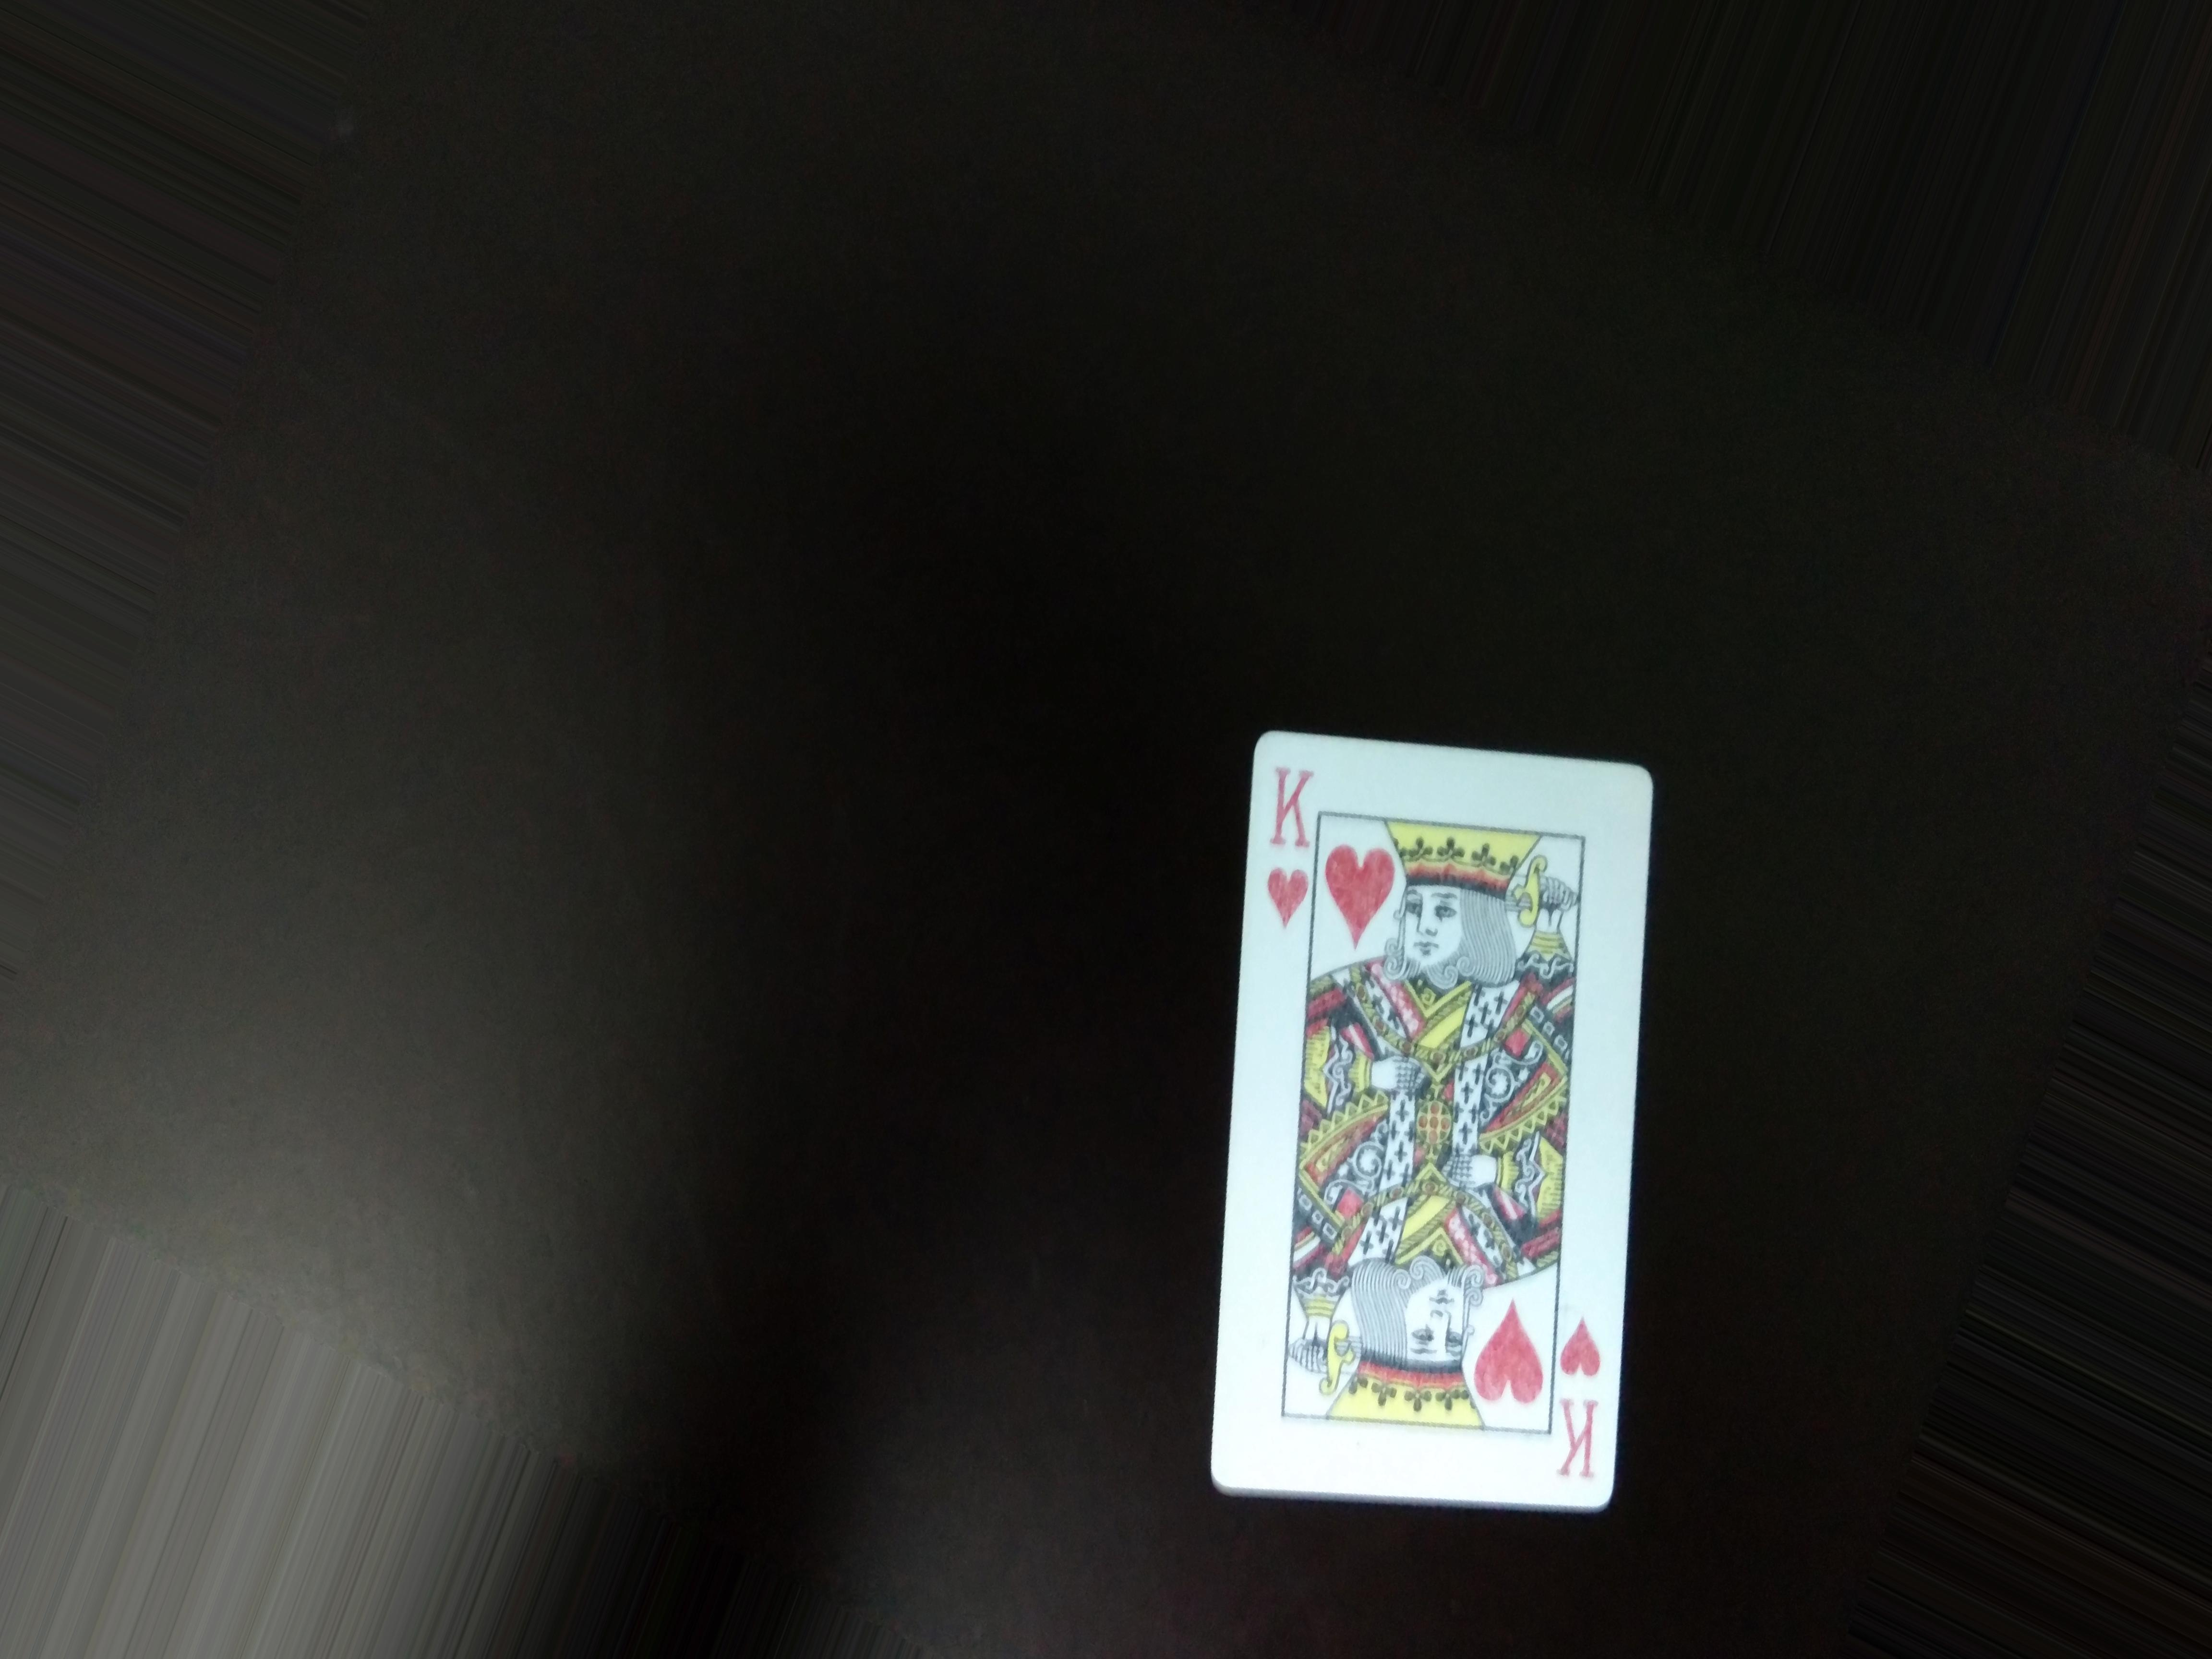KH: (1559, 1300, 1623, 1488)
